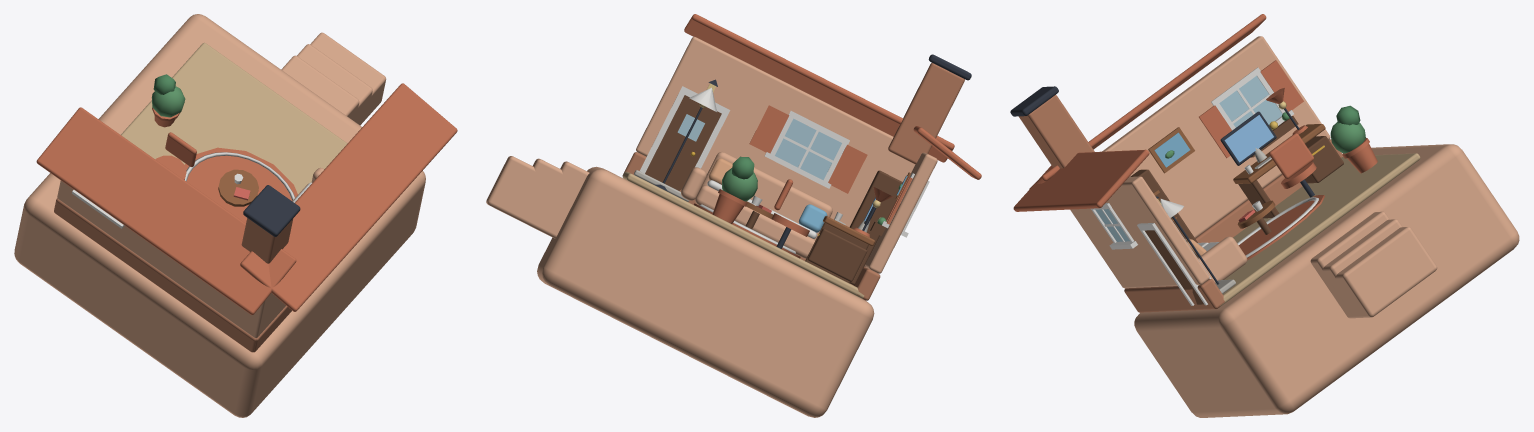
Rendered from station-about.glb.
3 views of the same model, side by side, from view 1: azimuth 30°, elevation 25°; view 2: azimuth 150°, elevation 25°; view 3: azimuth 270°, elevation 25° (orthographic). The views are drawn at different scales.
Parts seen in each view (by area): view 1: about; view 2: about; view 3: about.
Part boxes in pixels (<box>): about: <box>14,14,457,417</box>; about: <box>486,14,981,417</box>; about: <box>1010,14,1519,417</box>.
Bounding box in the file's own units: 3.77 × 2.86 × 3.94.
